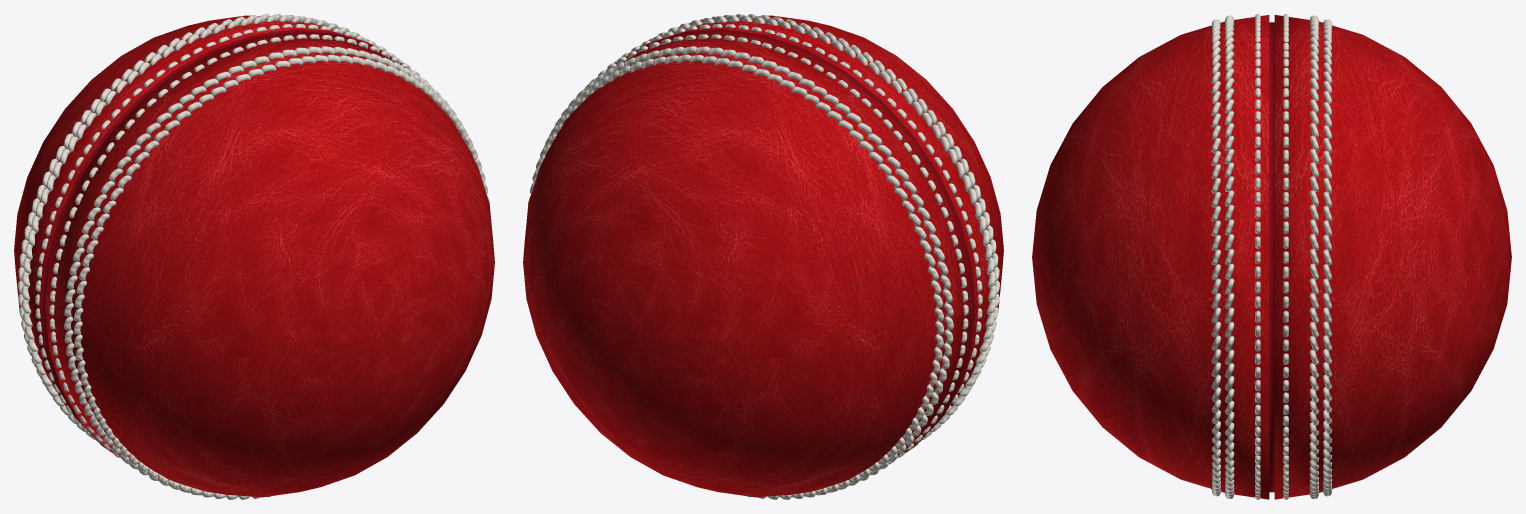
File: cricketBall-web.glb
3 views of the same model, side by side, from view 1: azimuth 30°, elevation 25°; view 2: azimuth 150°, elevation 25°; view 3: azimuth 270°, elevation 25° (orthographic).
Parts seen in each view (by area): view 1: Sphere; view 2: Sphere; view 3: Sphere.
Part boxes in pixels (x1=…): Sphere: x1=14, y1=14, x2=494, y2=499; Sphere: x1=523, y1=14, x2=1003, y2=499; Sphere: x1=1032, y1=14, x2=1511, y2=499.
Bounding box in the file's own units: 2.03 × 2.02 × 1.99.
3 materials, 2 textured.
